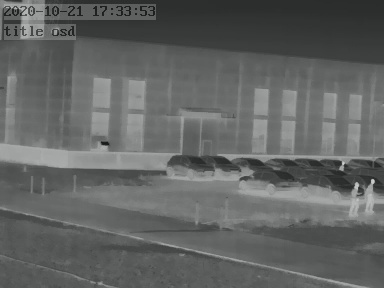person: (364, 178, 378, 212), (348, 181, 360, 216)
vehicle: (238, 169, 302, 195), (299, 173, 351, 202), (165, 153, 213, 178), (204, 153, 242, 177), (233, 155, 270, 171), (343, 154, 376, 169), (262, 155, 295, 170), (297, 155, 327, 169), (326, 154, 352, 168)
